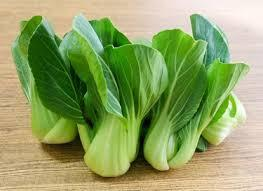Healthy-Pechay: (8, 9, 258, 172)
